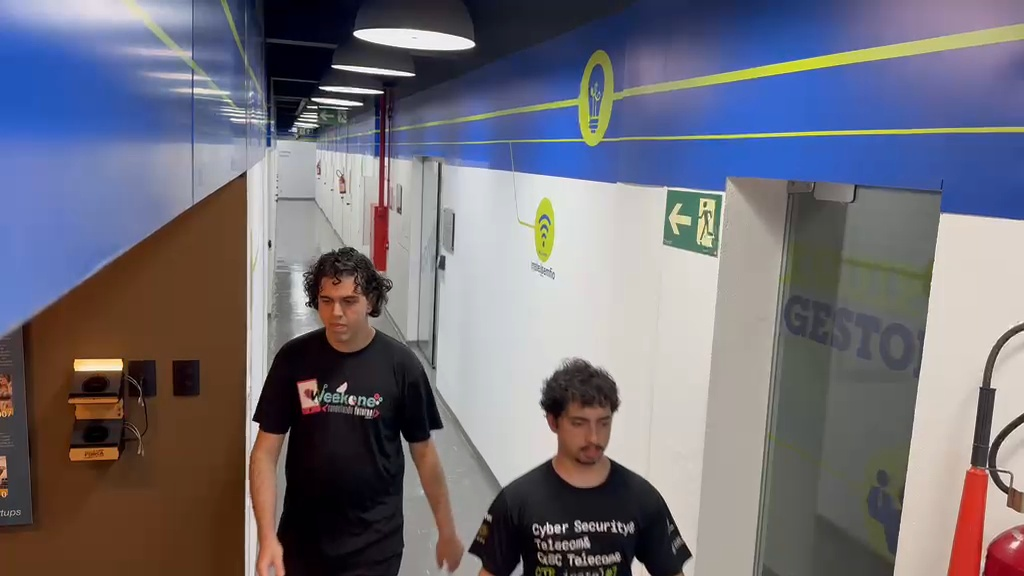person: (248, 245, 466, 573), (471, 357, 695, 574)
